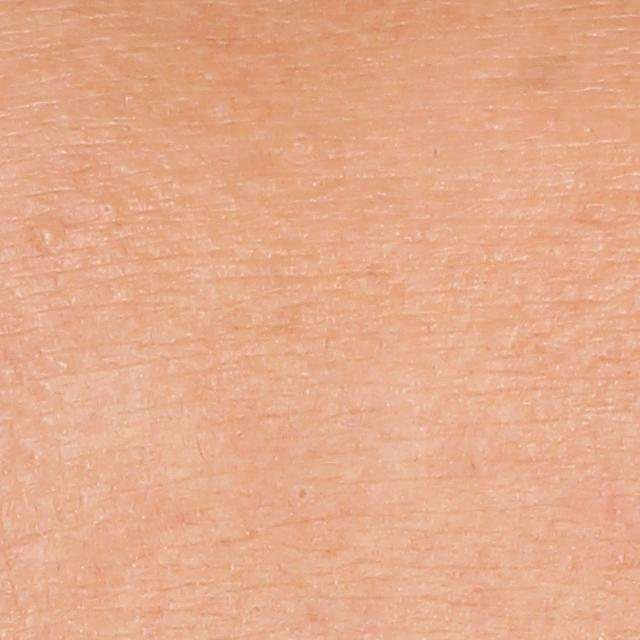comedo: (32, 221, 59, 252), (294, 485, 315, 505), (98, 202, 116, 218)
